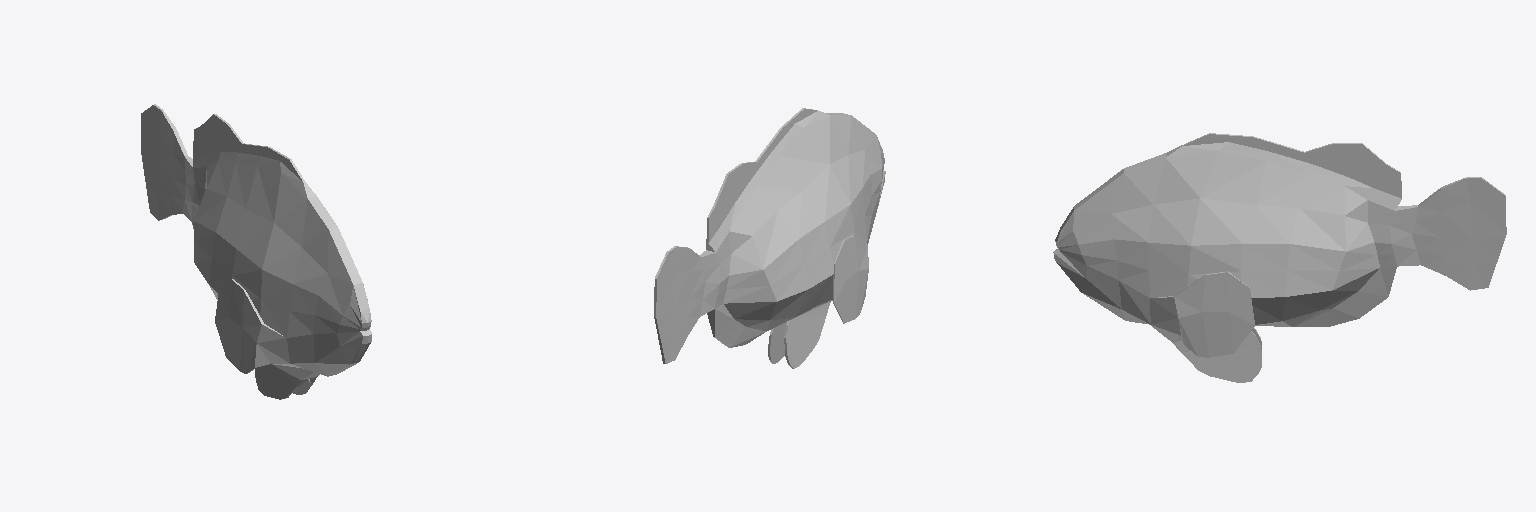
The model's file is fish11.obj.
The picture shows the model from 3 angles: view 1: azimuth 30°, elevation 25°; view 2: azimuth 150°, elevation 25°; view 3: azimuth 270°, elevation 25°; orthographic projection.
Parts seen in each view (by area): view 1: TropicalFish11:TropicalFish11; view 2: TropicalFish11:TropicalFish11; view 3: TropicalFish11:TropicalFish11.
Part boxes in pixels (left/top/right/bottom): TropicalFish11:TropicalFish11: left=141, top=104, right=371, bottom=399; TropicalFish11:TropicalFish11: left=654, top=108, right=885, bottom=368; TropicalFish11:TropicalFish11: left=1053, top=133, right=1506, bottom=382.
Size of the model in its own units: 1.75 by 3.82 by 6.42.